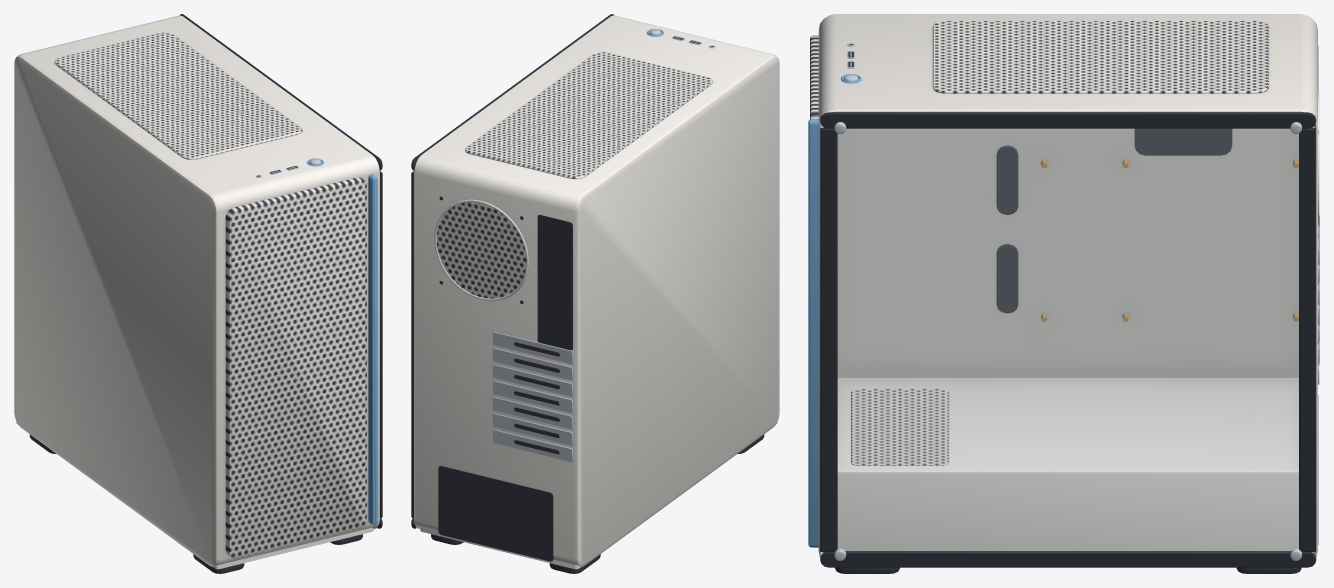
The model's file is case.glb.
The picture shows the model from 3 angles, left to right: view 1: azimuth 30°, elevation 25°; view 2: azimuth 150°, elevation 25°; view 3: azimuth 270°, elevation 25°; orthographic projection. The views are drawn at different scales.
Parts seen in each view (by area): view 1: pc-case_body, pc-case_side_panel; view 2: pc-case_body, pc-case_side_panel; view 3: pc-case_body, pc-case_side_panel.
Boxes of the visible parts, x1,y1,x2,y2 form: pc-case_body: (14,15,379,573); pc-case_side_panel: (180,14,382,528); pc-case_body: (414,15,779,573); pc-case_side_panel: (411,14,613,528); pc-case_body: (808,14,1319,573); pc-case_side_panel: (820,112,1316,567).
Size of the model in its own units: 0.2239 by 0.4804 by 0.4711.
Materials: 4 (1 with a texture image).
